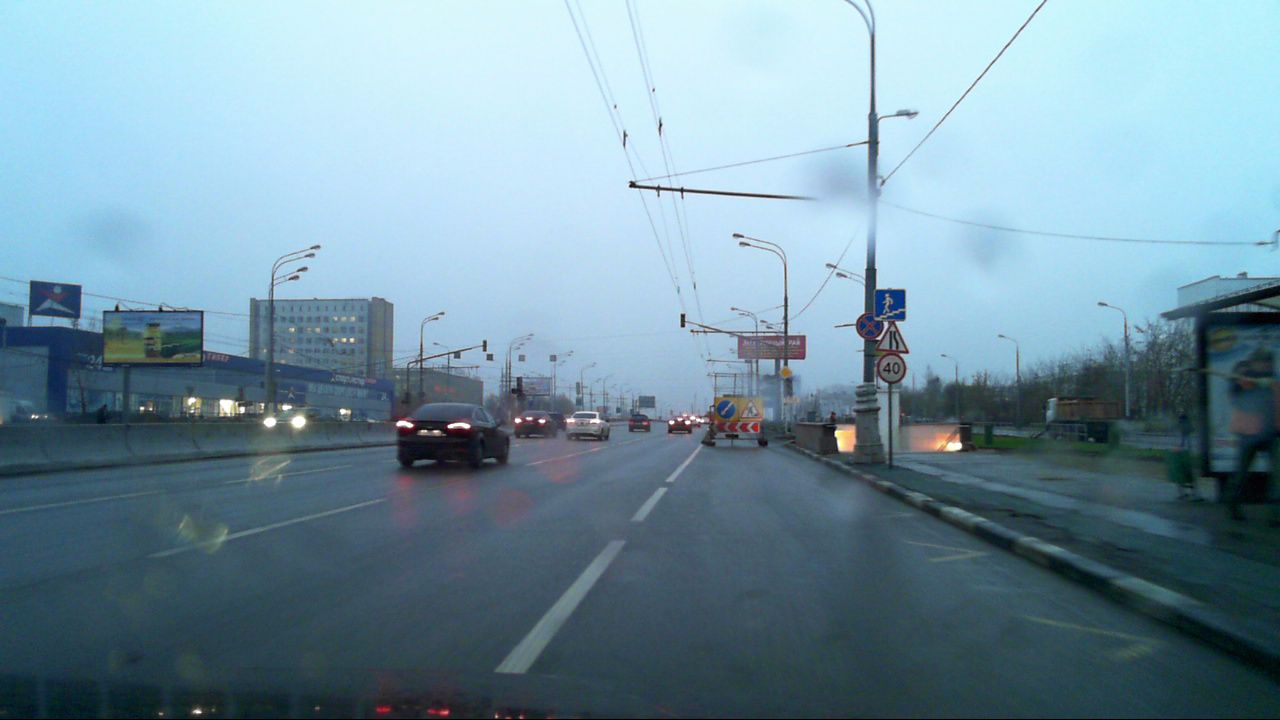No Parking: (855, 313, 882, 339)
speed_warning_40: (877, 353, 907, 384)
